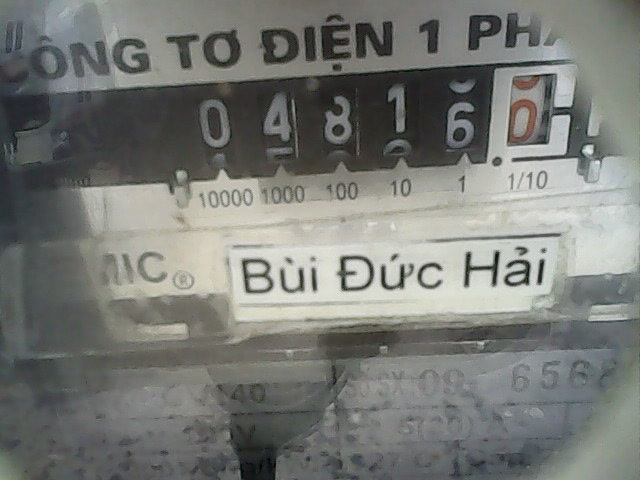phy_plate: (188, 55, 574, 169)
